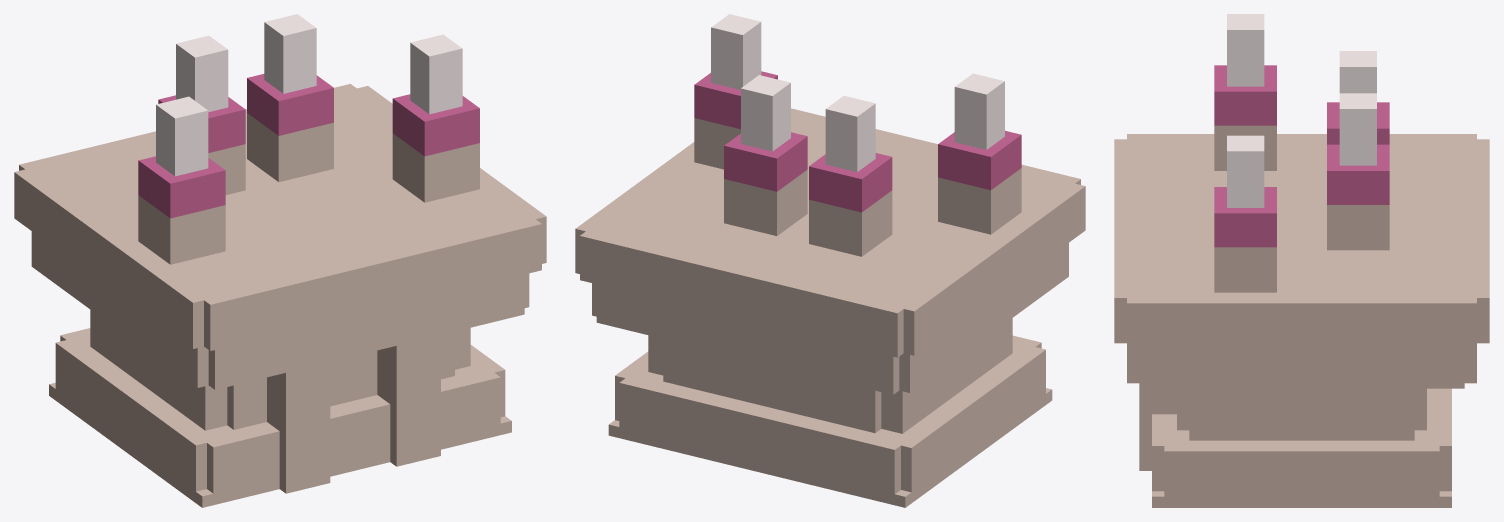
3 views of the same model, side by side, from view 1: azimuth 30°, elevation 25°; view 2: azimuth 150°, elevation 25°; view 3: azimuth 270°, elevation 25° (orthographic). The views are drawn at different scales.
Parts seen in each view (by area): view 1: L005, L006, L004; view 2: L005, L006, L004; view 3: L005, L004, L006.
Part boxes in pixels (bbox=[...]): L005: bbox=[14, 84, 546, 507]; L006: bbox=[156, 14, 462, 176]; L004: bbox=[138, 74, 479, 218]; L005: bbox=[575, 108, 1085, 507]; L006: bbox=[711, 14, 1004, 171]; L004: bbox=[694, 71, 1021, 212]; L005: bbox=[1114, 125, 1489, 507]; L004: bbox=[1214, 65, 1389, 247]; L006: bbox=[1227, 14, 1376, 207].
Bounding box in the file's own units: 320 × 310 × 300.
Materials: 3 (3 with a texture image).
